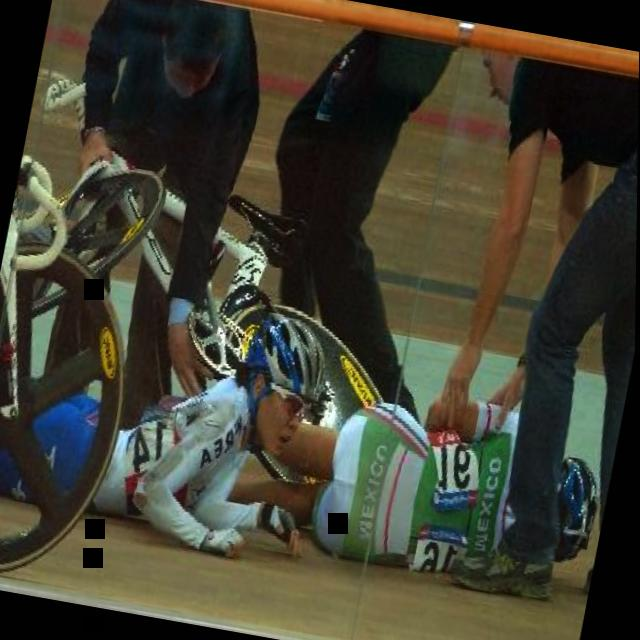Fall-Detected: (210, 310, 617, 610)
